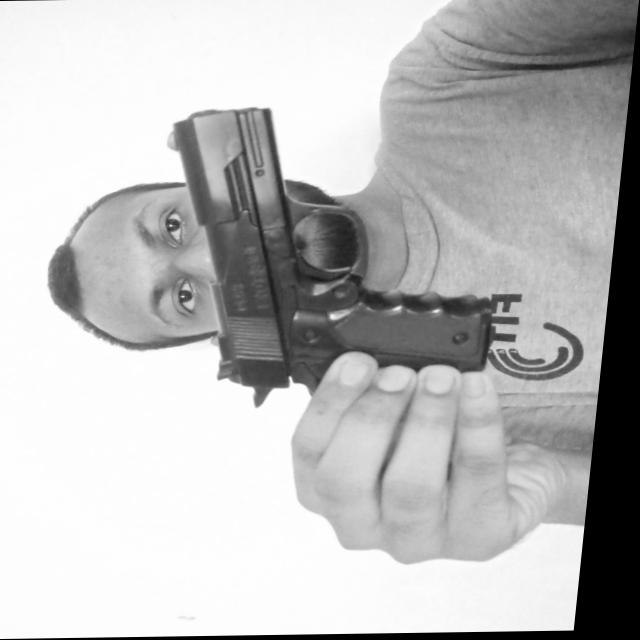handgun: (144, 101, 521, 409)
